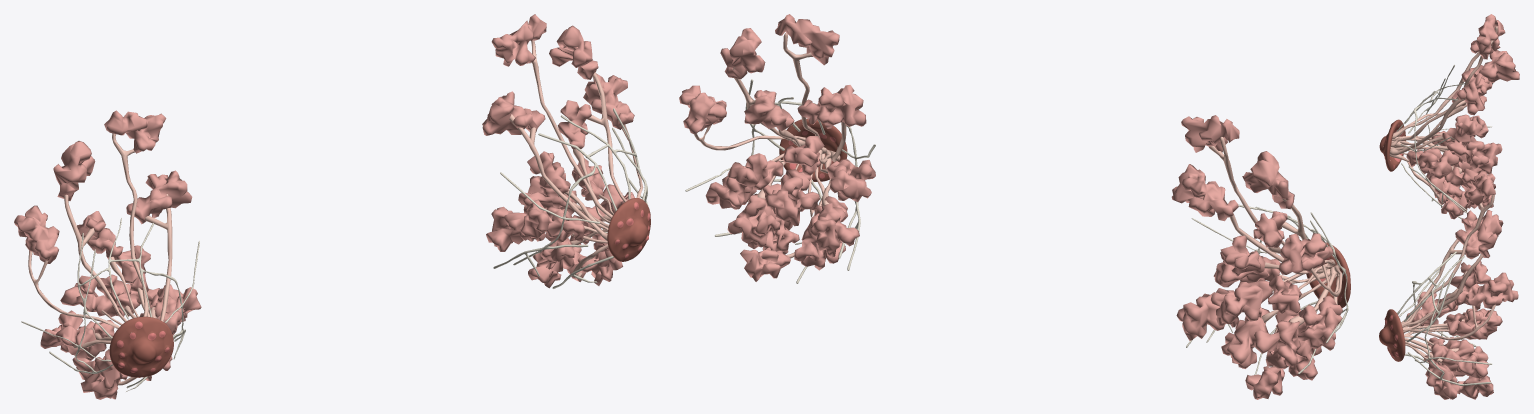
File: mamas-feminina.glb
3 views of the same model, side by side, from view 1: azimuth 30°, elevation 25°; view 2: azimuth 150°, elevation 25°; view 3: azimuth 270°, elevation 25° (orthographic). The views are drawn at different scales.
Visible parts, largest first — view 1: VHF_mammary_lobes_L, VHF_mammary_lobes_R, VHF_main_lactiferous_ducts_R, VHF_main_lactiferous_ducts_L, VHF_suspensory_ligaments_L, VHF_areola_R, VHF_suspensory_ligaments_R, VHF_areola_L; view 2: VHF_mammary_lobes_L, VHF_mammary_lobes_R, VHF_main_lactiferous_ducts_R, VHF_main_lactiferous_ducts_L, VHF_suspensory_ligaments_L, VHF_areola_L, VHF_suspensory_ligaments_R, VHF_areola_R; view 3: VHF_mammary_lobes_L, VHF_mammary_lobes_R, VHF_main_lactiferous_ducts_L, VHF_main_lactiferous_ducts_R, VHF_suspensory_ligaments_L, VHF_suspensory_ligaments_R, VHF_areola_L, VHF_areola_R, VHF_main_lactiferous_sinuses_R, VHF_nipple_L.
Boxes of the visible parts, <box> form: VHF_mammary_lobes_L: <box>482,14,634,288</box>; VHF_mammary_lobes_R: <box>14,110,201,399</box>; VHF_main_lactiferous_ducts_R: <box>28,133,172,385</box>; VHF_main_lactiferous_ducts_L: <box>509,40,643,278</box>; VHF_suspensory_ligaments_L: <box>493,108,648,288</box>; VHF_areola_R: <box>109,316,173,377</box>; VHF_suspensory_ligaments_R: <box>21,218,199,391</box>; VHF_areola_L: <box>607,198,650,261</box>; VHF_mammary_lobes_L: <box>679,14,875,281</box>; VHF_mammary_lobes_R: <box>1171,115,1342,399</box>; VHF_main_lactiferous_ducts_R: <box>1209,136,1342,366</box>; VHF_main_lactiferous_ducts_L: <box>694,33,846,258</box>; VHF_suspensory_ligaments_L: <box>685,79,875,283</box>; VHF_areola_L: <box>779,118,847,181</box>; VHF_suspensory_ligaments_R: <box>1186,204,1348,374</box>; VHF_areola_R: <box>1306,242,1350,308</box>; VHF_mammary_lobes_L: <box>1406,171,1518,399</box>; VHF_mammary_lobes_R: <box>1406,14,1519,219</box>; VHF_main_lactiferous_ducts_L: <box>1401,190,1495,363</box>; VHF_main_lactiferous_ducts_R: <box>1392,26,1497,203</box>; VHF_suspensory_ligaments_L: <box>1397,251,1492,385</box>; VHF_suspensory_ligaments_R: <box>1396,64,1491,218</box>; VHF_areola_L: <box>1384,309,1405,361</box>; VHF_areola_R: <box>1383,119,1405,171</box>; VHF_main_lactiferous_sinuses_R: <box>1389,128,1411,158</box>; VHF_nipple_L: <box>1379,327,1390,347</box>.
Bounding box in the file's own units: 0.2698 × 0.1146 × 0.0683.
